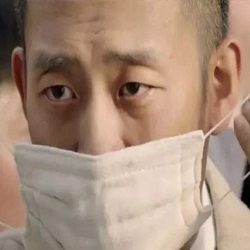mask: (12, 127, 210, 250)
